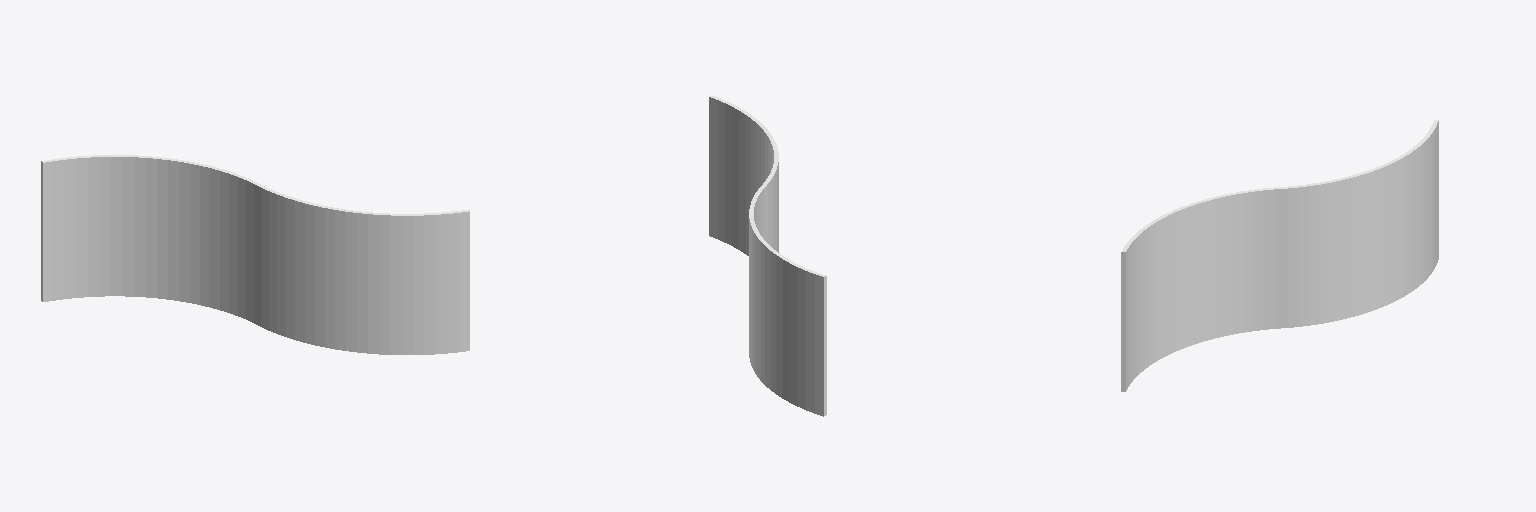
Rendered from Gelaene_steil_1.obj.
3 renders of one model, left to right at view 1: azimuth 30°, elevation 25°; view 2: azimuth 150°, elevation 25°; view 3: azimuth 270°, elevation 25°, orthographic.
Visible parts, largest first — view 1: wall_1_4, wall_2_10; view 2: wall_1_3, wall_2_9, wall_1_4, wall_2_10; view 3: wall_1_3, wall_2_9.
Boxes of the visible parts, box(x1,y1,x2,y2) form: wall_1_4: box(42, 157, 260, 326); wall_2_10: box(261, 188, 469, 354); wall_1_3: box(749, 219, 824, 416); wall_2_9: box(709, 97, 773, 255); wall_1_4: box(754, 184, 826, 415); wall_2_10: box(768, 162, 778, 252); wall_1_3: box(1275, 121, 1438, 328); wall_2_9: box(1124, 189, 1274, 391).
Size of the model in its own units: 509 by 250 by 515.